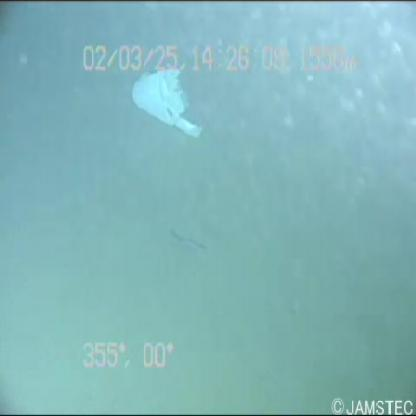Rác: (119, 56, 212, 157)
